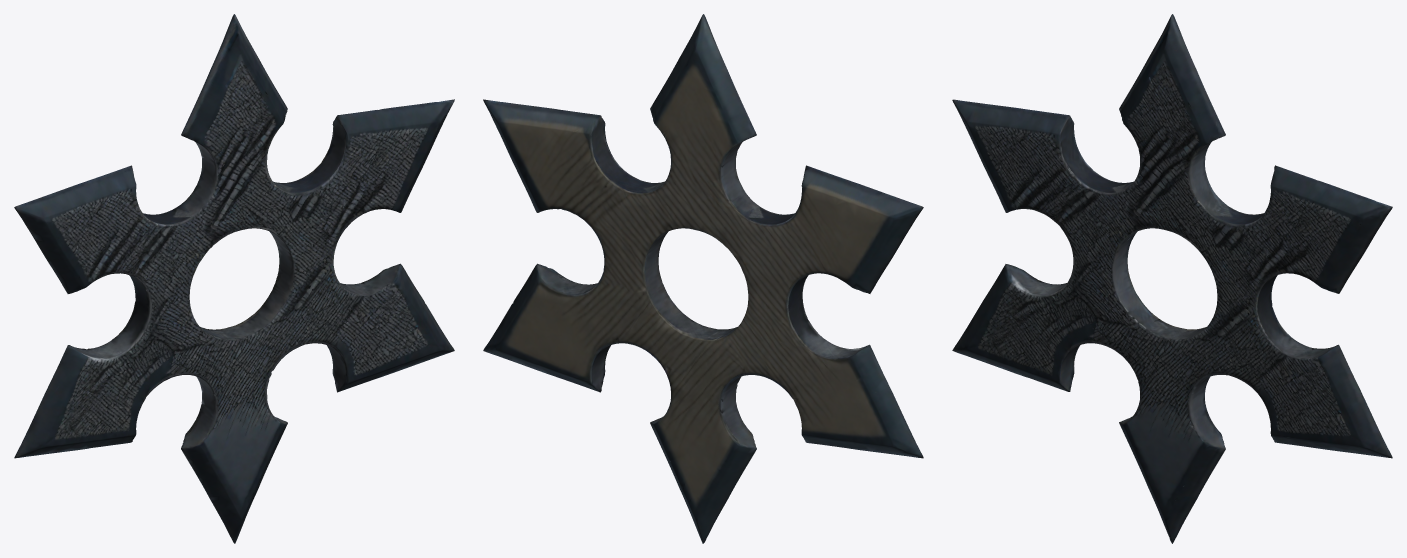
The model's file is Shuriken.glb.
3 renders of one model, left to right at view 1: azimuth 30°, elevation 25°; view 2: azimuth 150°, elevation 25°; view 3: azimuth 330°, elevation 25°, orthographic.
Bounding box in the file's own units: 1.73 × 1.99 × 0.1027.
Materials: 1 (1 with a texture image).
